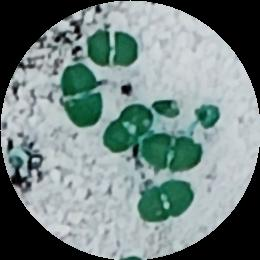Basil: (56, 63, 106, 132), (100, 99, 157, 153), (135, 180, 195, 225), (145, 132, 198, 174), (84, 31, 139, 67)
